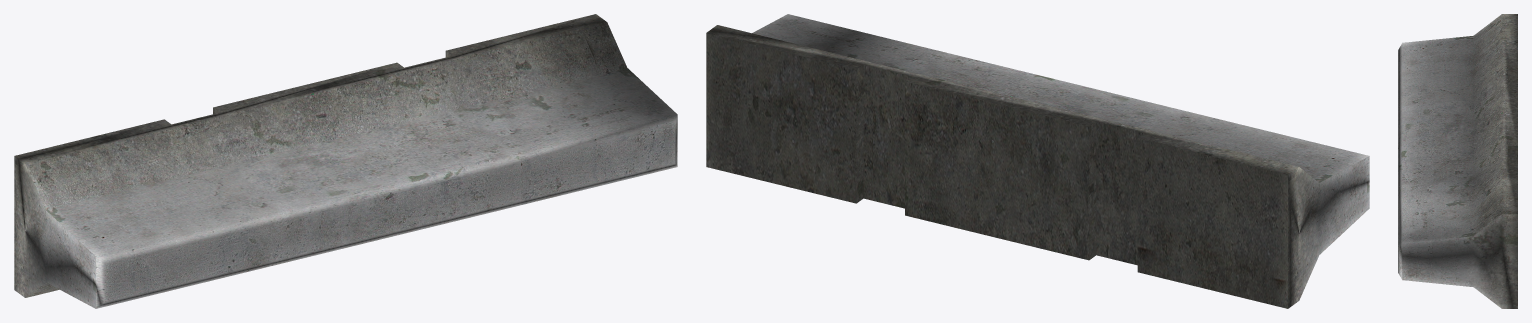
File: barrier_concrete.fbx
3 views of the same model, side by side, from view 1: azimuth 30°, elevation 25°; view 2: azimuth 150°, elevation 25°; view 3: azimuth 270°, elevation 25° (orthographic). The views are drawn at different scales.
Visible parts, largest first — view 1: barrier_concrete; view 2: barrier_concrete; view 3: barrier_concrete.
Part boxes in pixels (x1,y1,x2,y2): barrier_concrete: (14,14,677,308); barrier_concrete: (706,14,1369,308); barrier_concrete: (1398,14,1517,308).
Bounding box in the file's own units: 3 × 0.66 × 0.757.
